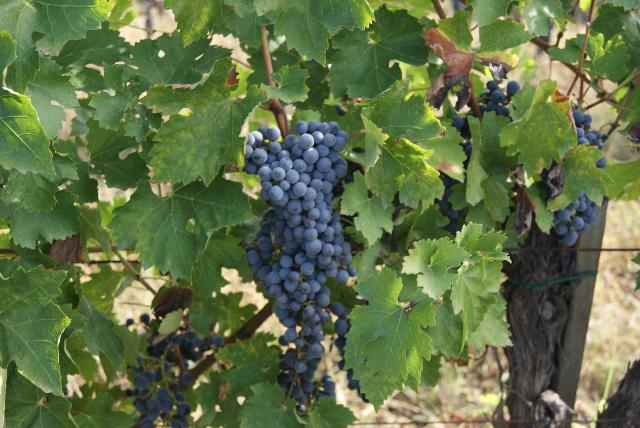grapes: (245, 120, 350, 274)
